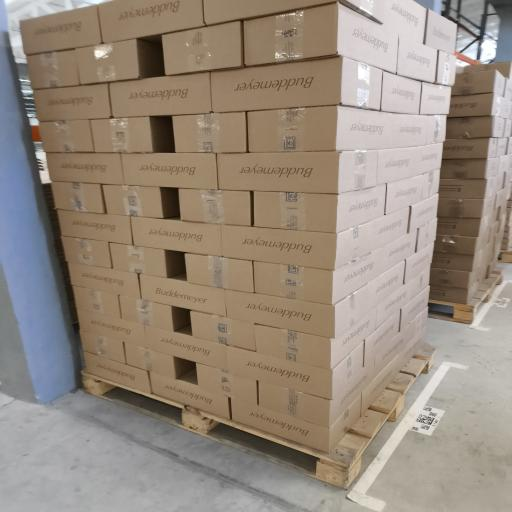pallet: (83, 345, 435, 488), (429, 268, 504, 323), (500, 252, 511, 262)
